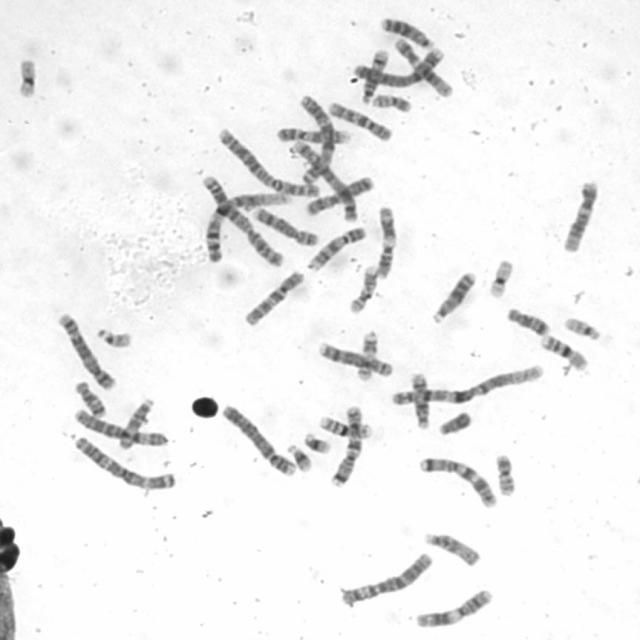A1: (388, 361, 546, 408), (201, 186, 292, 265)
A2: (215, 124, 322, 197), (201, 186, 292, 265)
A3: (70, 432, 176, 492), (295, 93, 337, 184)
B4: (219, 401, 297, 477), (350, 44, 446, 89)
B5: (288, 137, 359, 223), (55, 310, 117, 391)
C10: (240, 268, 306, 328), (324, 99, 394, 143)
C11: (412, 586, 495, 629), (372, 202, 397, 281)
C12: (391, 35, 453, 99), (560, 178, 600, 252)
C6: (337, 549, 434, 608), (72, 406, 170, 447)
C7: (415, 453, 498, 510), (328, 402, 364, 489)
C8: (315, 338, 394, 378), (249, 204, 320, 248)
C9: (304, 224, 368, 273), (275, 125, 352, 147)
D13: (427, 267, 478, 325), (378, 14, 435, 51)
D14: (359, 46, 392, 104), (407, 370, 432, 429)
D15: (115, 396, 157, 451), (422, 529, 481, 567)
E16: (538, 331, 590, 372), (316, 413, 374, 439)
E17: (353, 266, 380, 319), (354, 328, 380, 383)
E18: (504, 304, 552, 337), (72, 378, 108, 418)
F19: (486, 256, 516, 300), (14, 54, 39, 100)
F20: (492, 451, 518, 497), (369, 91, 412, 114)
G21: (284, 441, 314, 473), (302, 430, 332, 454)
G22: (561, 314, 602, 342), (94, 325, 134, 349)
X: (303, 173, 377, 216)
Y: (434, 408, 473, 436)
